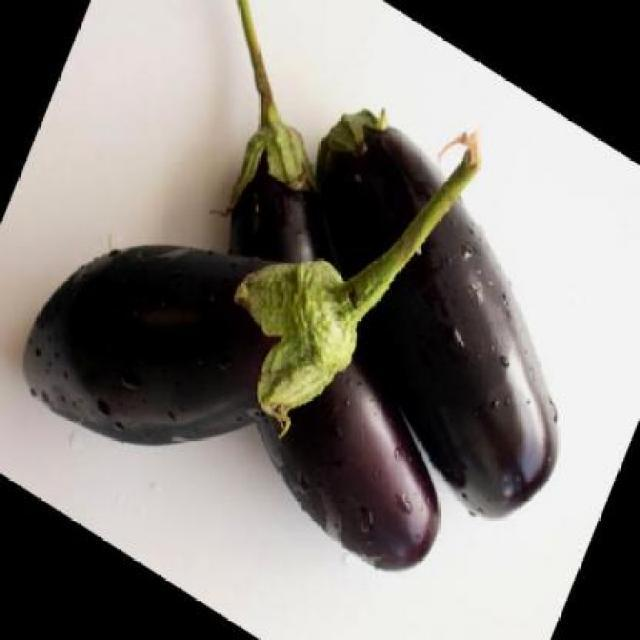eggplant: (56, 0, 578, 595), (6, 0, 485, 580), (231, 80, 637, 546)
